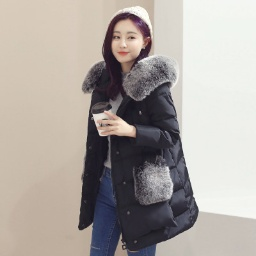face: (102, 13, 155, 68)
